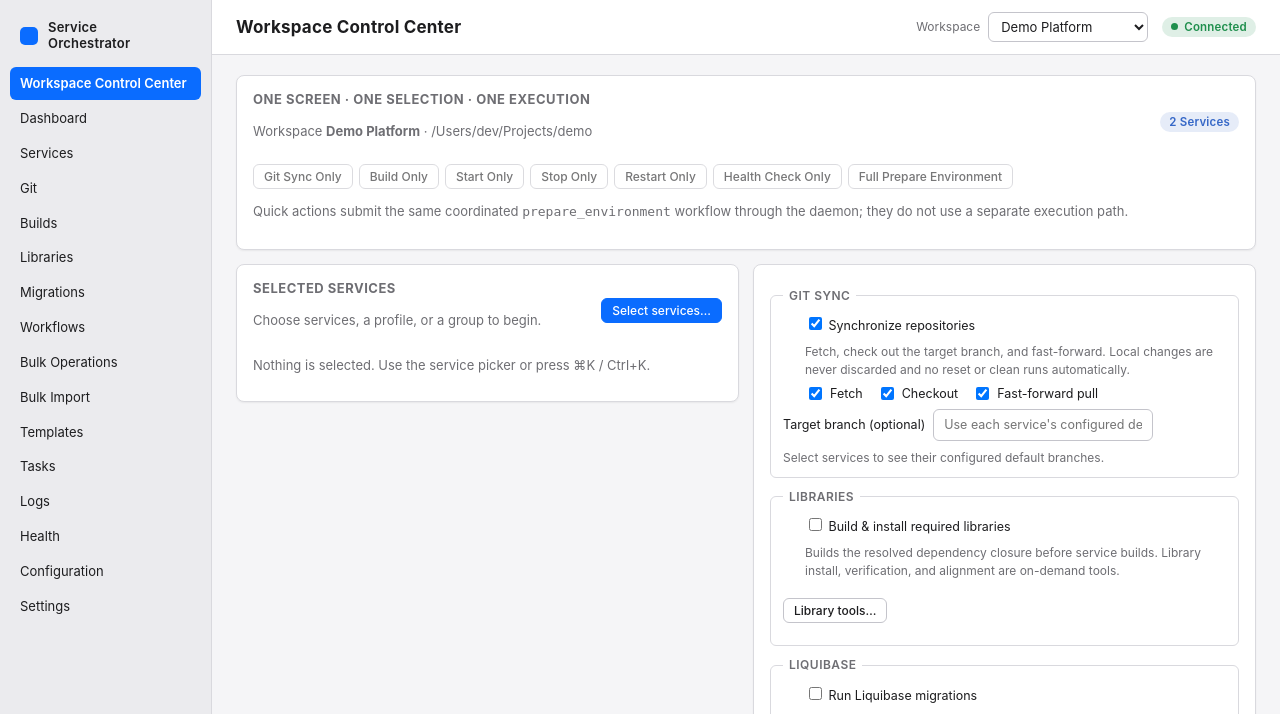
application shell › navigates between screens and marks the active page
Step 1. Click the button "Services" → coordinates (106, 153), box [10, 137, 201, 170]
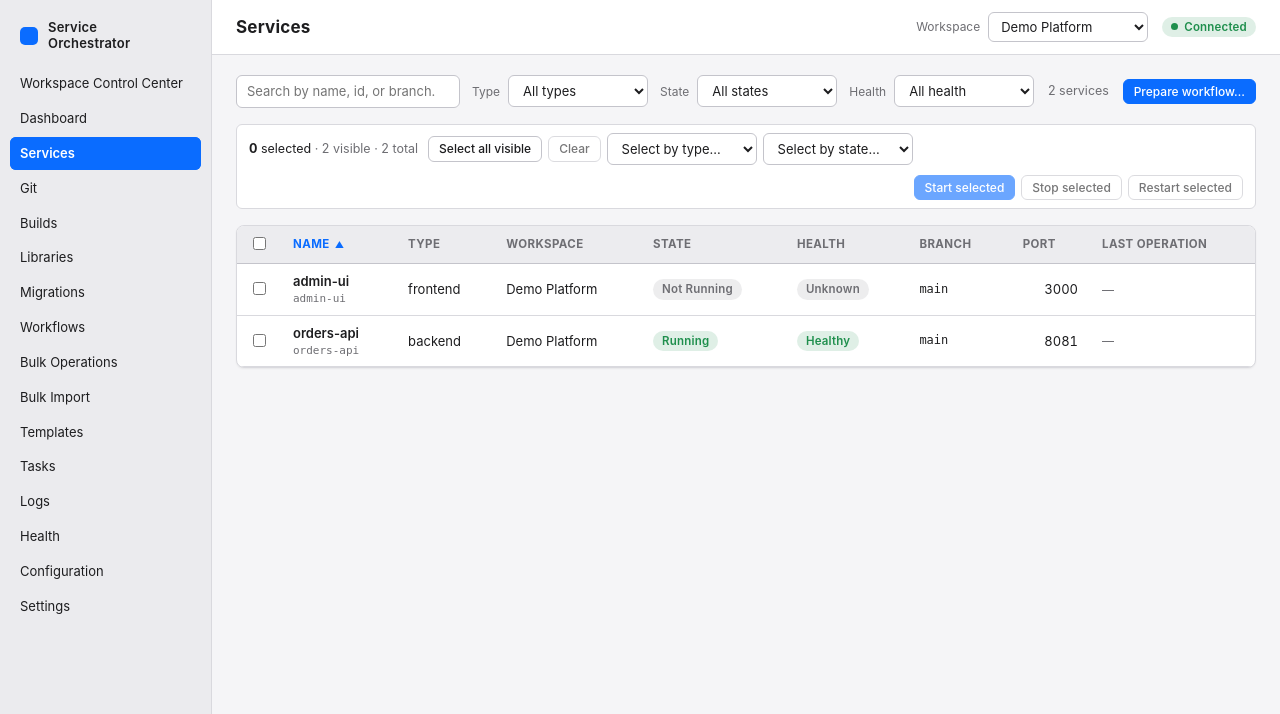
Now the heading "Services" is shown, box [236, 15, 310, 39]
Now the table is shown, box [237, 226, 1255, 367]
Now the number of rows is 3, box [237, 226, 1255, 263]; [237, 264, 1255, 315]; [237, 315, 1255, 367]
Step 2. Click the button "Dashboard" → coordinates (106, 118), box [10, 102, 201, 135]
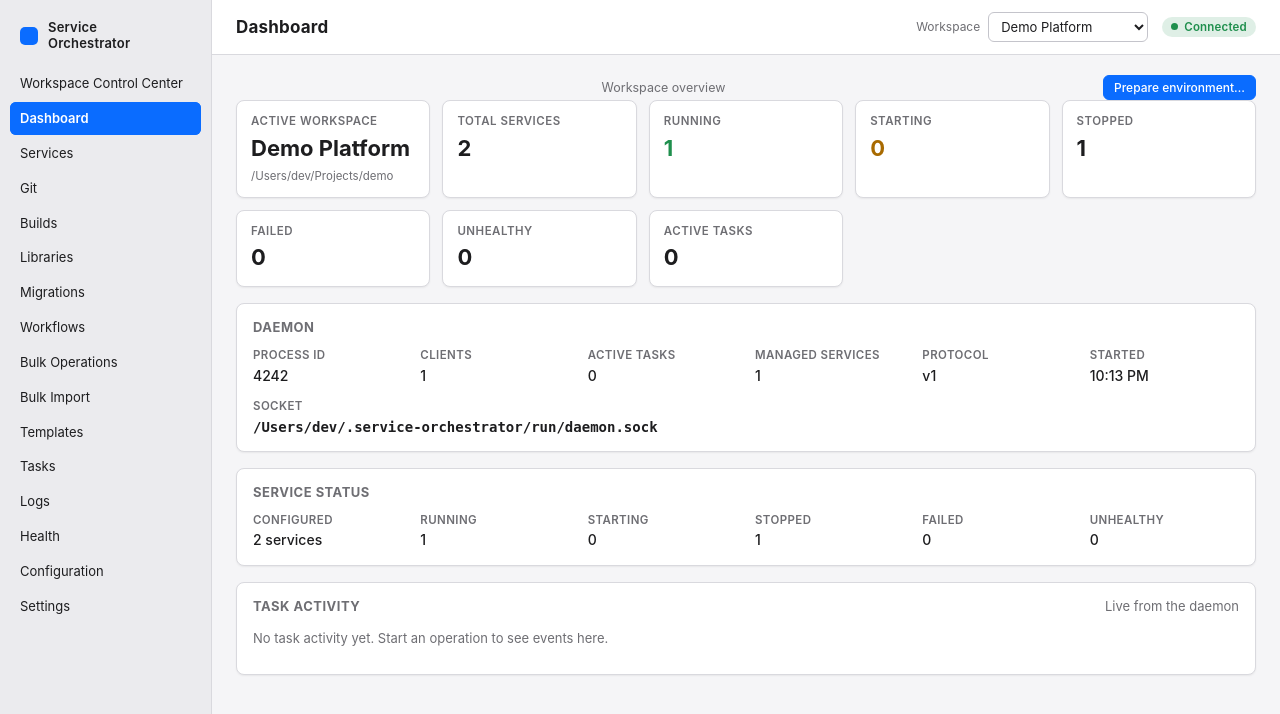
Now the heading "Dashboard" is shown, box [236, 15, 328, 39]
